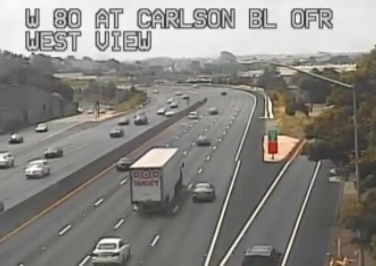car: (92, 237, 132, 263), (242, 245, 280, 266), (192, 182, 214, 201), (116, 157, 134, 170)
truck: (128, 147, 183, 215)
